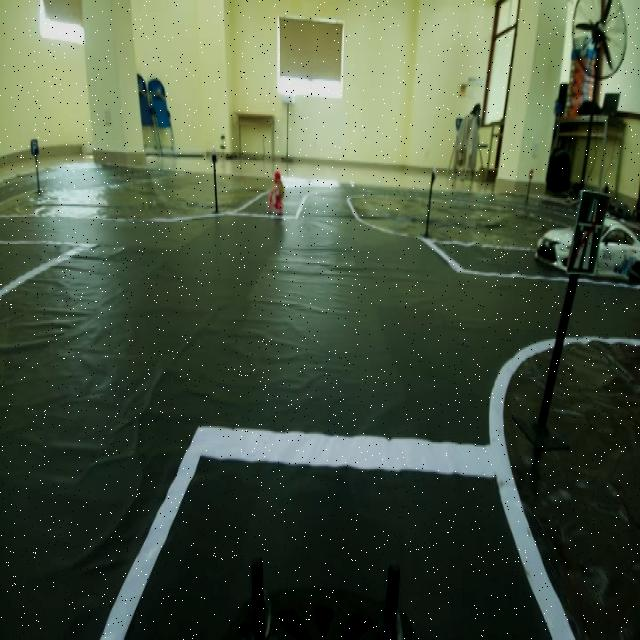highway_exit: (570, 182, 608, 288)
